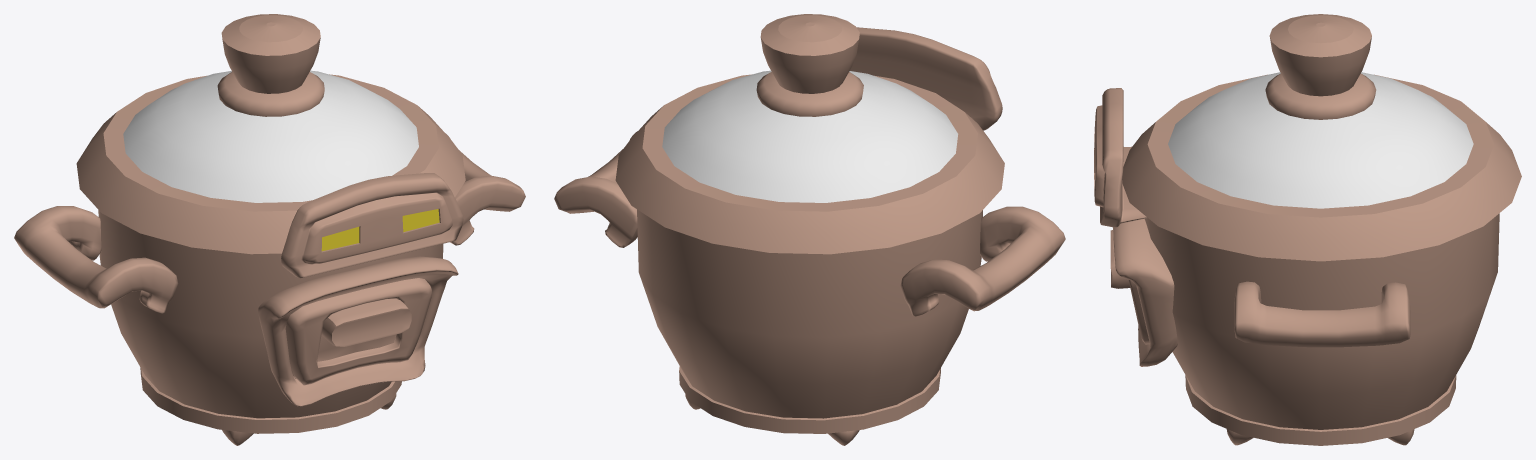
Rendered from Ricecooker.glb.
3 renders of one model, left to right at view 1: azimuth 30°, elevation 25°; view 2: azimuth 150°, elevation 25°; view 3: azimuth 270°, elevation 25°, orthographic. The views are drawn at different scales.
Parts seen in each view (by area): view 1: RiceCooker; view 2: RiceCooker; view 3: RiceCooker.
Part boxes in pixels (x1,y1,x2,y2): RiceCooker: (14, 14, 525, 445); RiceCooker: (554, 14, 1065, 445); RiceCooker: (1094, 14, 1521, 445).
Bounding box in the file's own units: 15.8 × 13.17 × 13.34.
